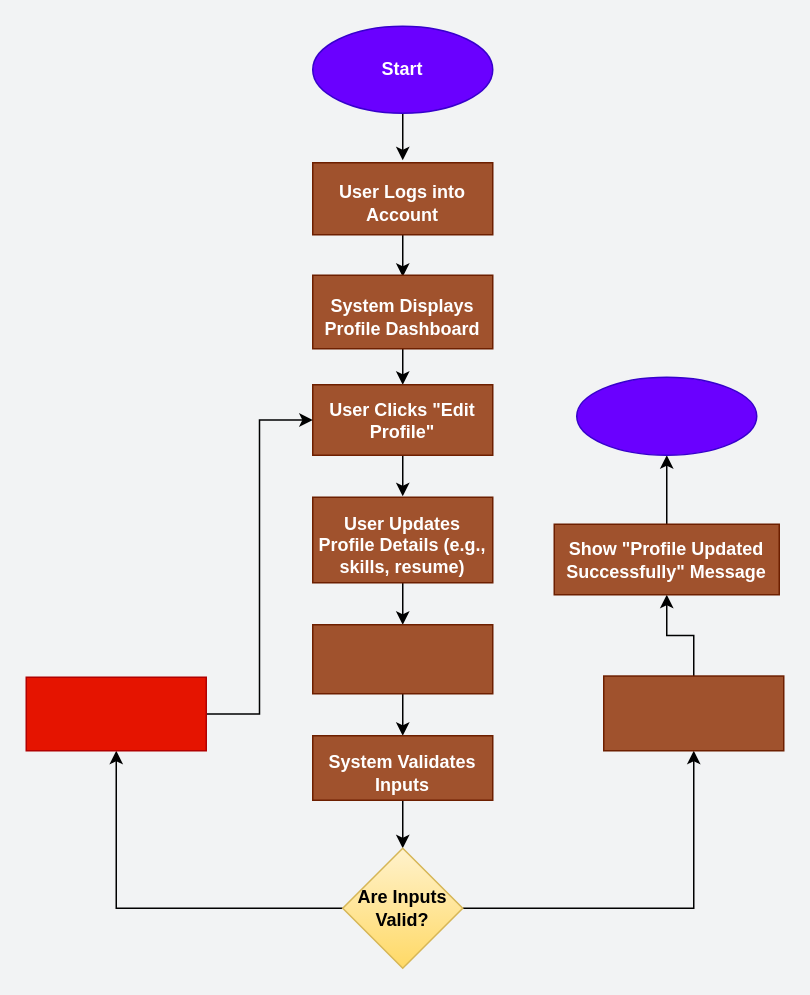
The diagram is 810 pixels wide and 995 high, and some of its shapes have lost their labels. Each missing label, with the box of its shape:
End: (575, 376, 757, 455)
If No → Show Error Message: (25, 676, 206, 751)
If Yes → Save Updated Profile to Database: (602, 675, 784, 751)
User Clicks "Save": (311, 623, 493, 694)
